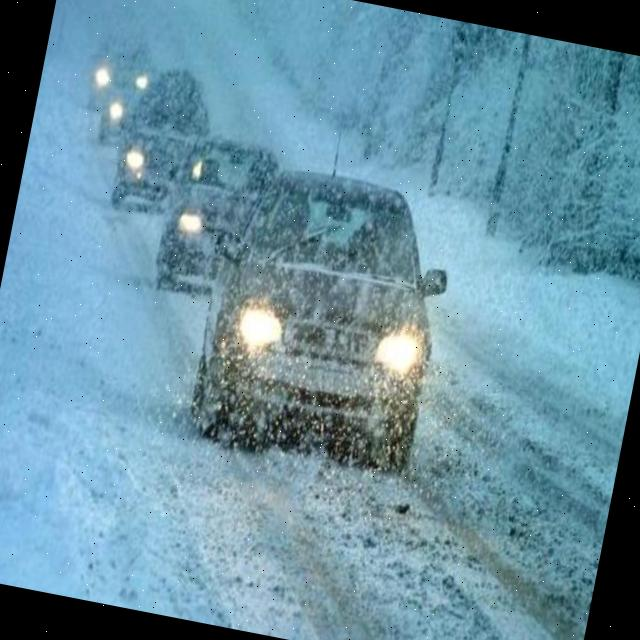car: (136, 138, 470, 490), (152, 127, 282, 310), (114, 68, 215, 226), (84, 33, 158, 116), (99, 57, 155, 148)
